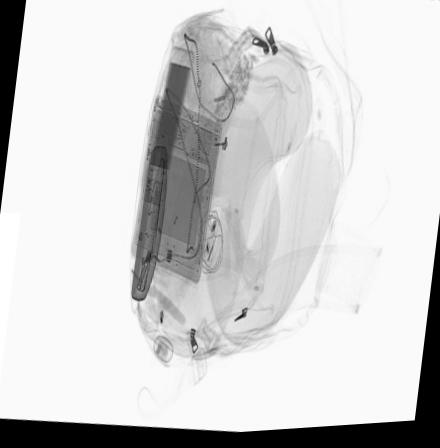Powerbank: (146, 60, 188, 173)
